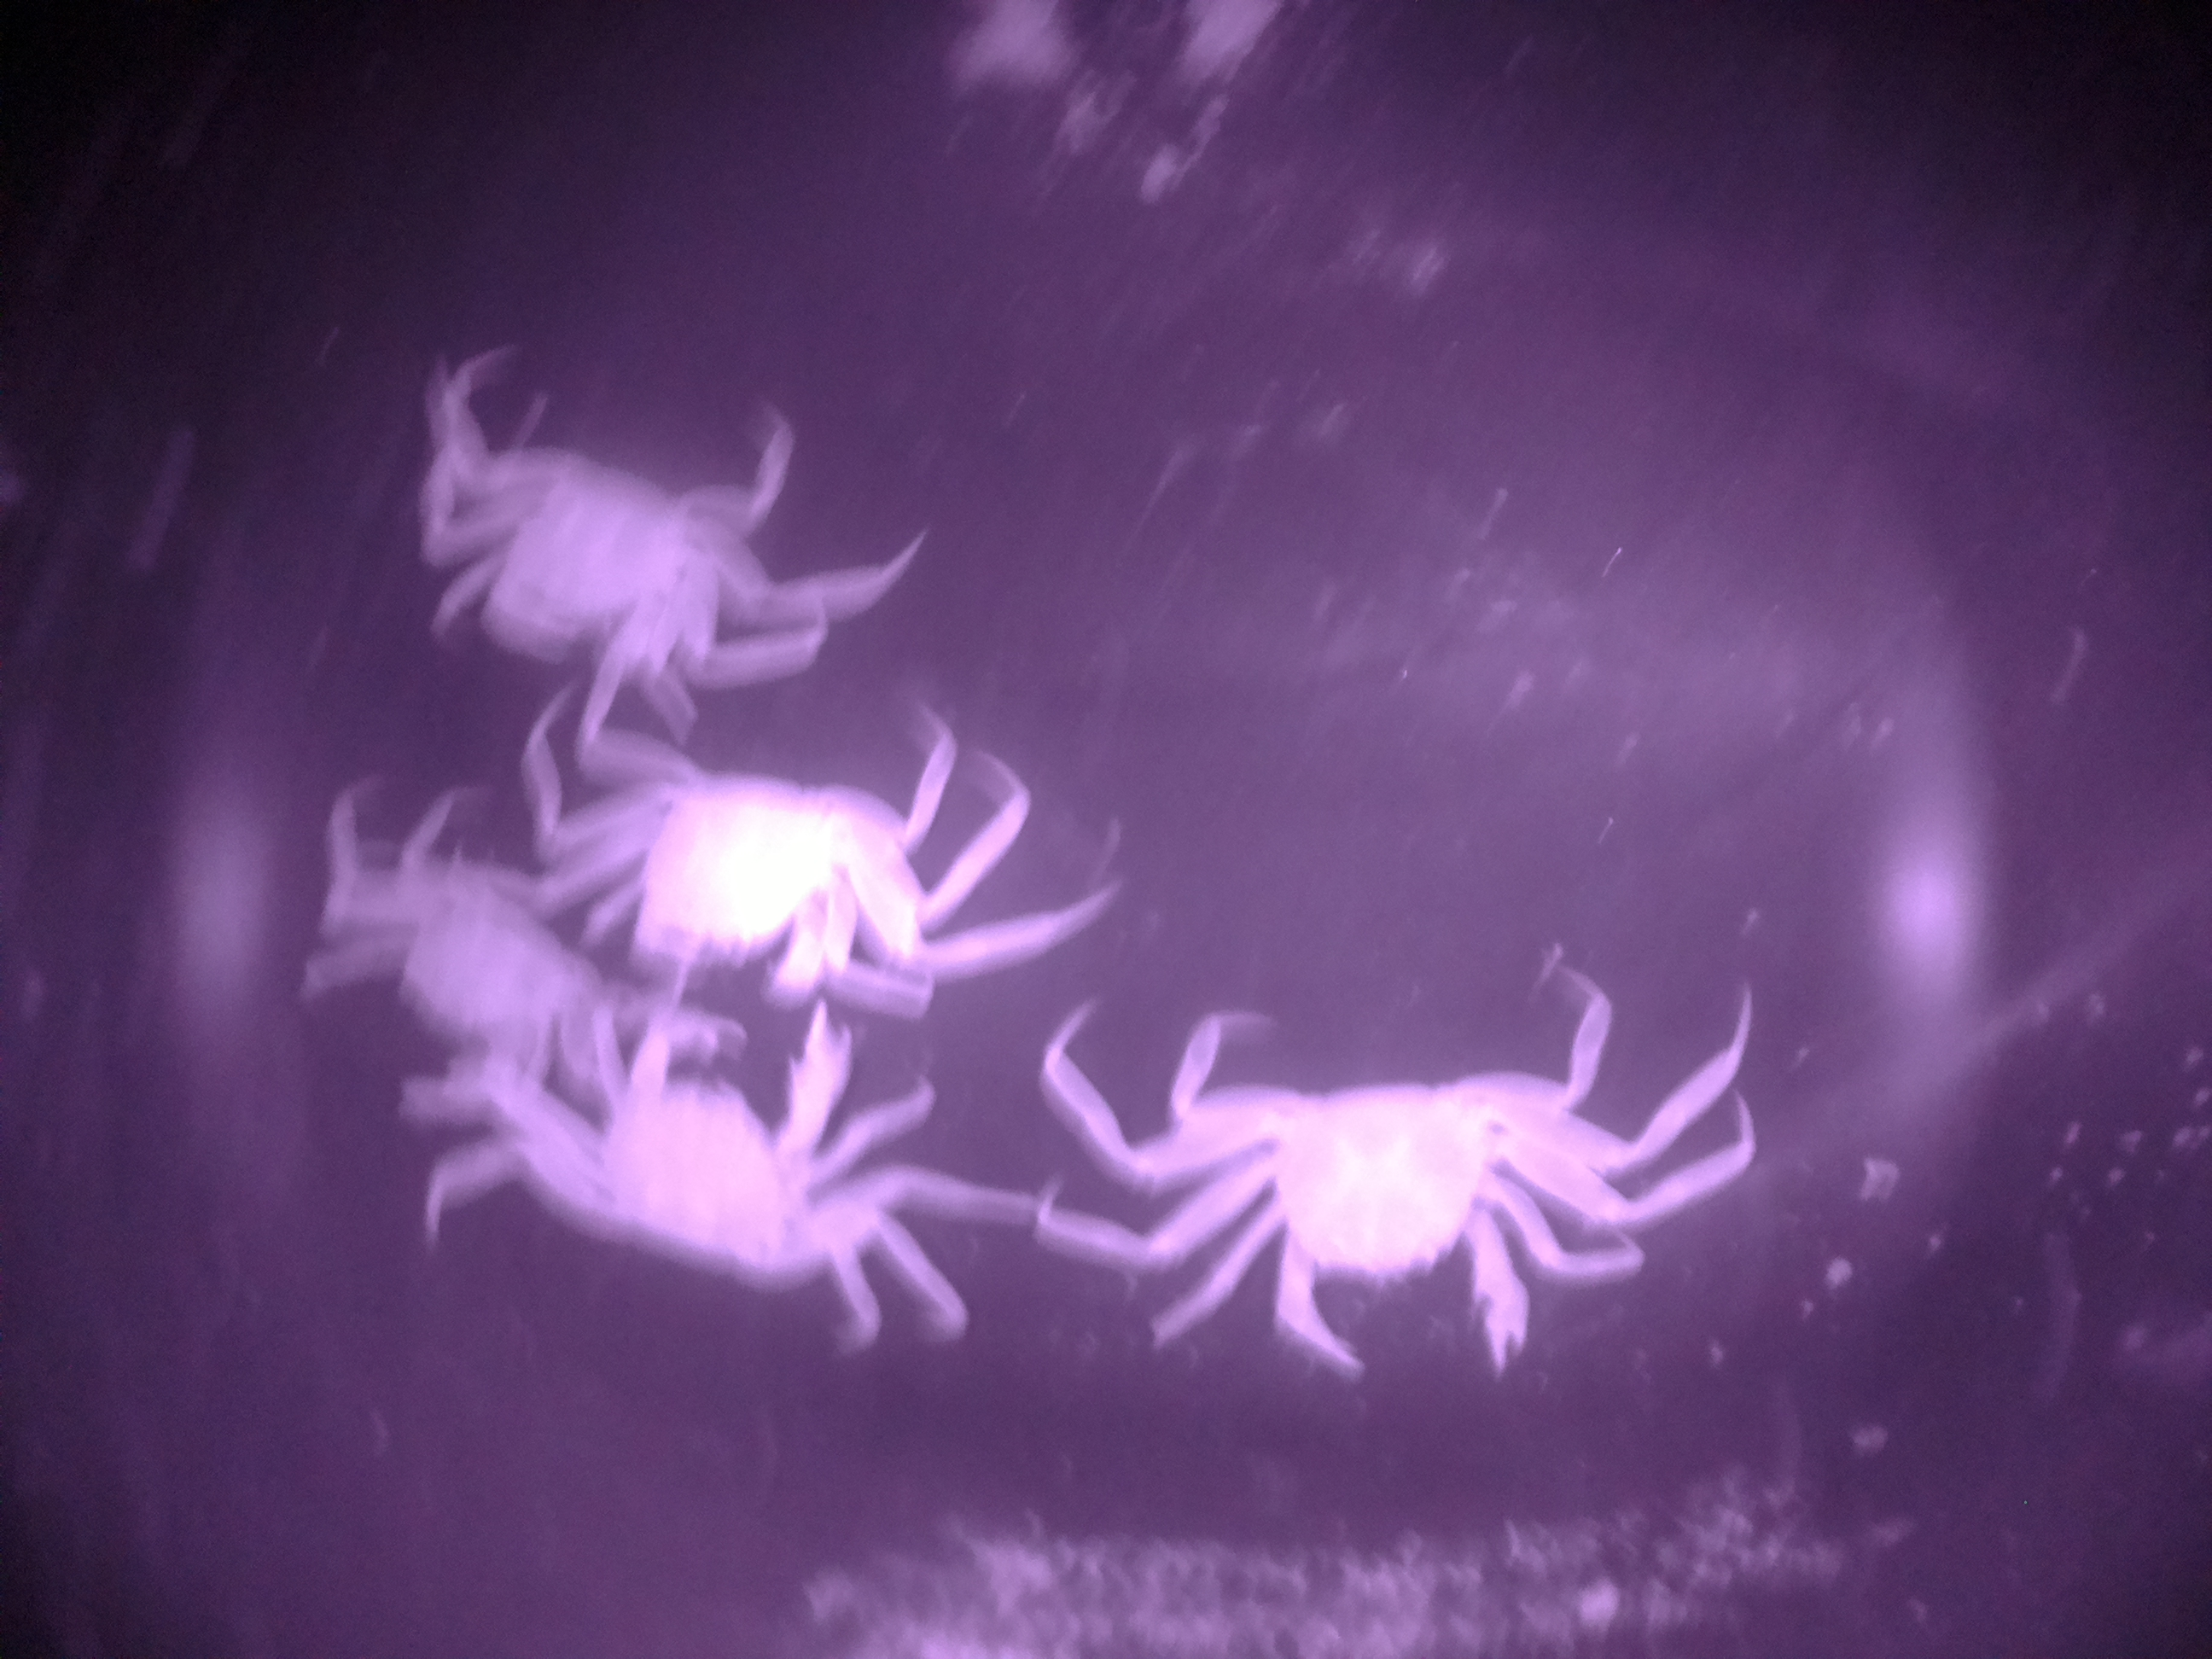Crab: (1150, 964, 1635, 1436), (460, 957, 913, 1398), (439, 371, 768, 728)
